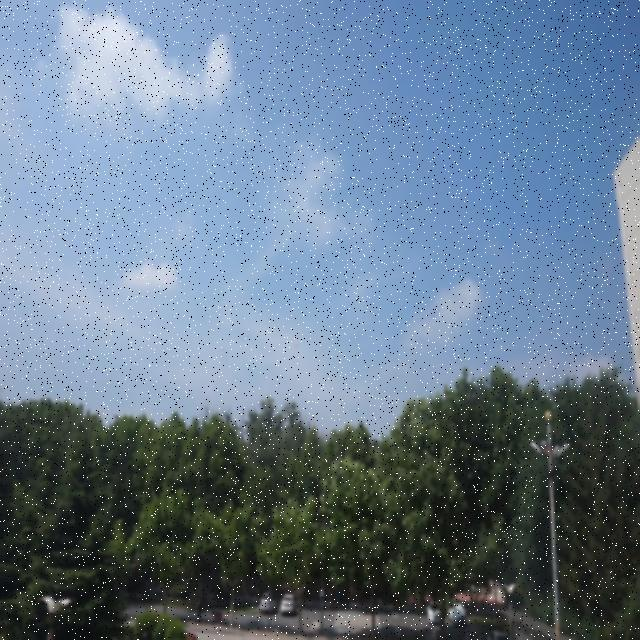UAV: (292, 342, 298, 348)
